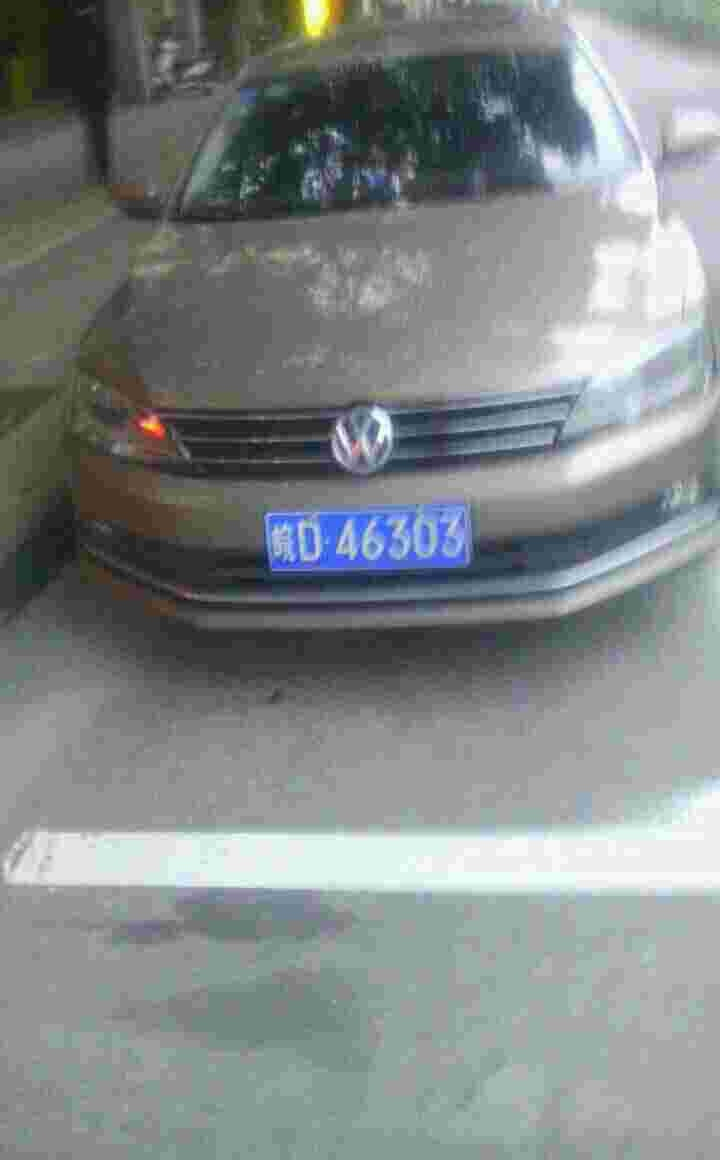car: (254, 513, 476, 576)
